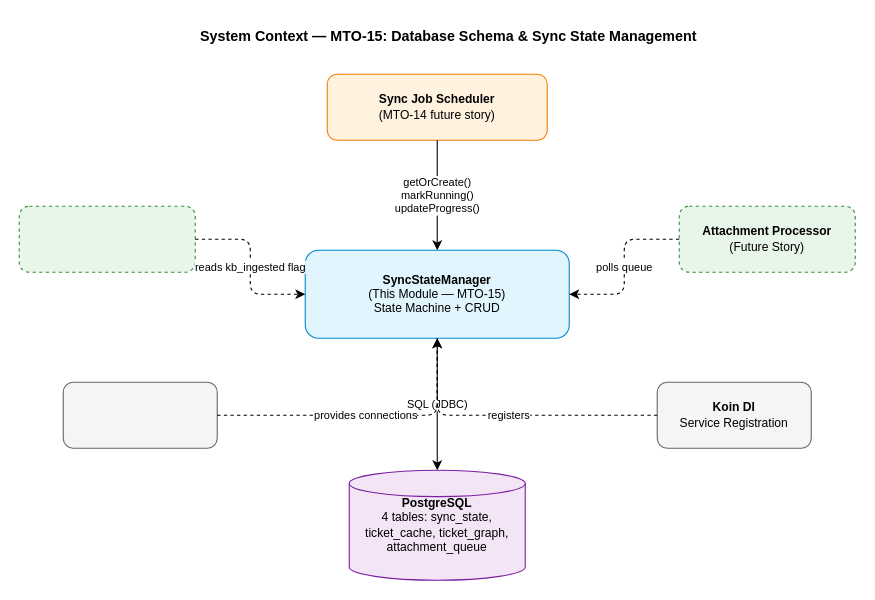
This 875x600 diagram has some shape labels left out. The shapes that lost their labels are listed below. From the top down, each one's centre as x and y in pixels, then its label:
At [106,238]: "KB Ingestion (Future Story)".
At [139,414]: "HikariCP Connection Pool".
